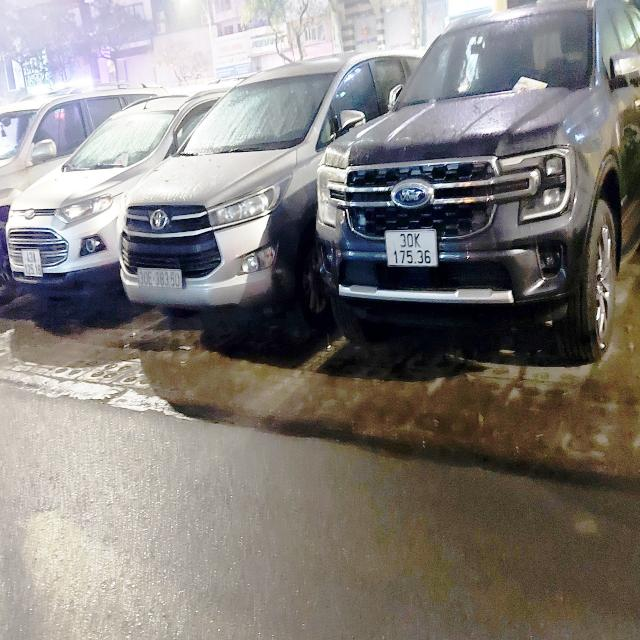license_plate: (384, 227, 439, 268), (137, 266, 185, 293), (21, 248, 46, 279)
